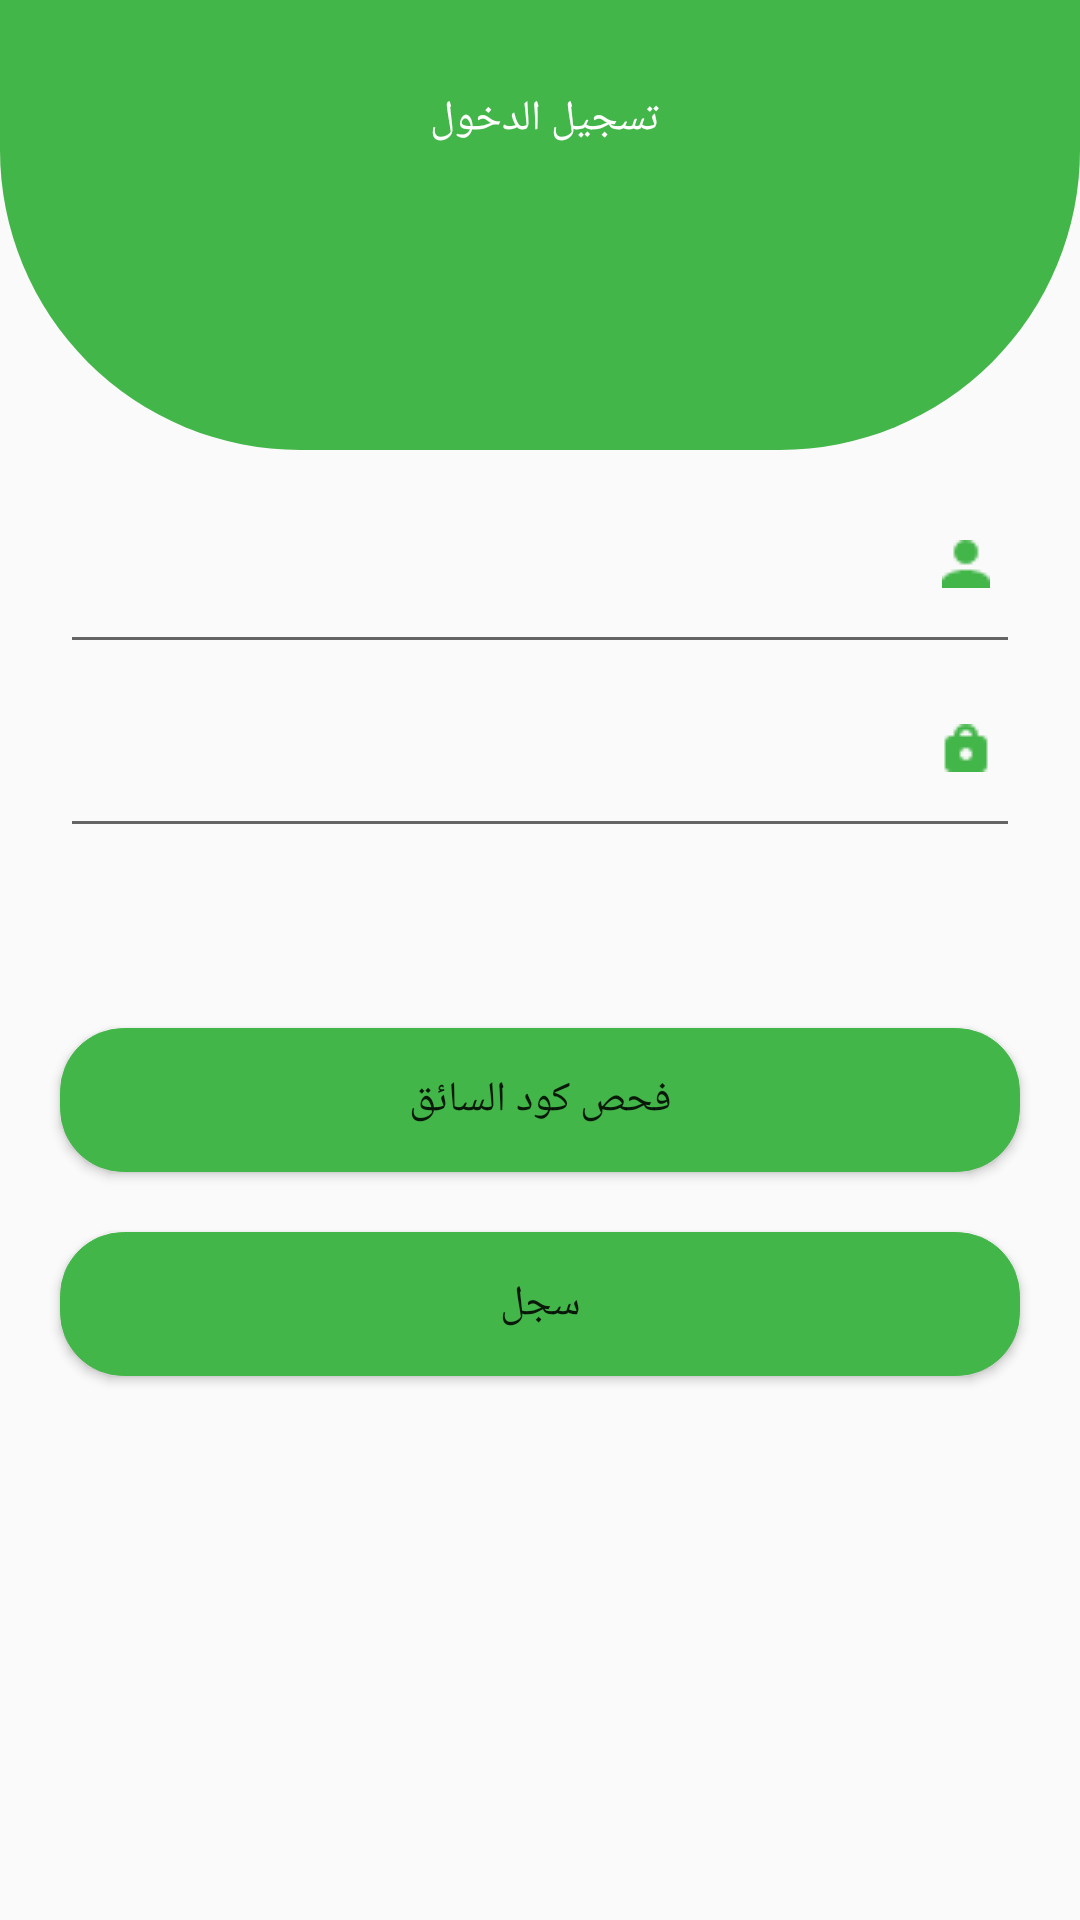

Named icons in this screenshot (1080×1920) and their bounding boxes, {"x1": x1, "y1": y1, "x2": x2, "y2": y2}:
lock: {"x1": 944, "y1": 724, "x2": 988, "y2": 772}
person: {"x1": 942, "y1": 540, "x2": 990, "y2": 588}
